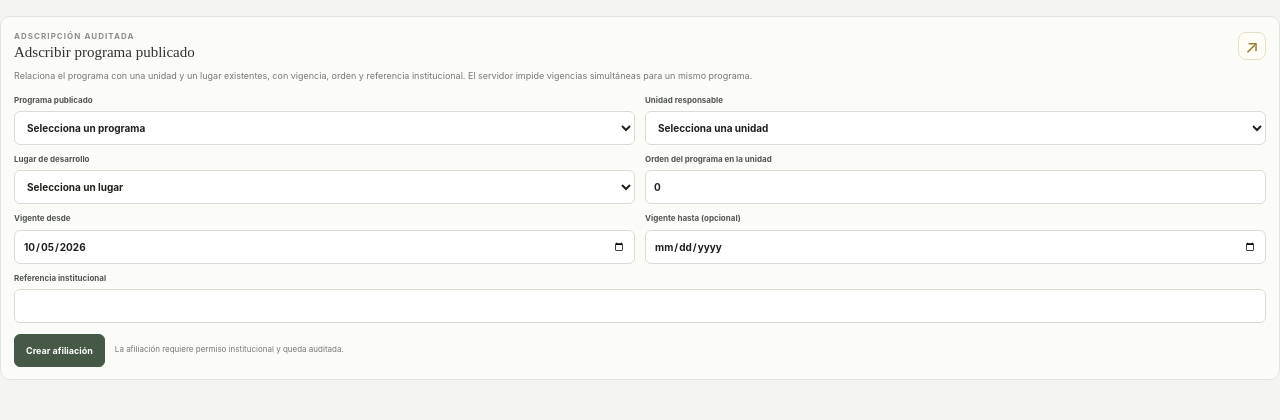
Scenario: CreateAcademicProgramAffiliationForm › creates an audited program affiliation from explicit catalog identities
The image size is (1280, 420).
Select "Ingeniería de Sistemas · IS-2026" in the dropdown labelled "Programa publicado": (324, 128) [14, 111, 635, 145]
Select "Facultad de prueba · FAC-TEST" in the dropdown labelled "Unidad responsable": (956, 128) [645, 111, 1266, 145]
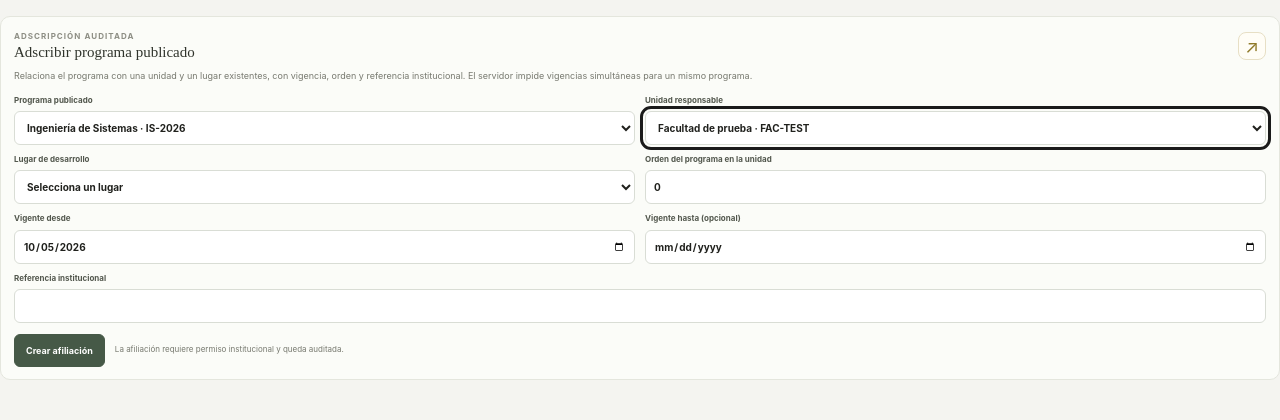
Select "Campus de prueba · SITE-TEST" in the dropdown labelled "Lugar de desarrollo": (324, 187) [14, 170, 635, 204]
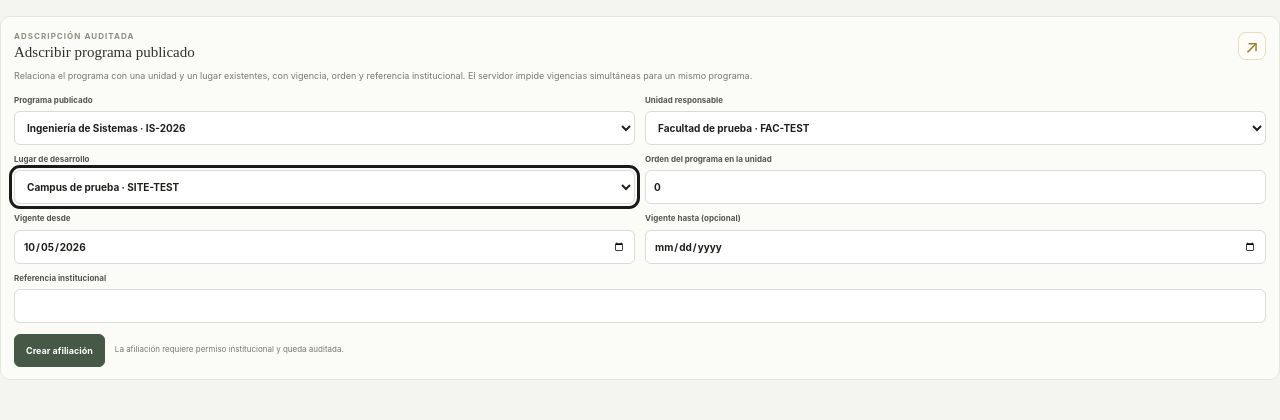
Replace the text in the number field labelled "Orden del programa en la unidad" with "4": (956, 187) [645, 170, 1266, 204]
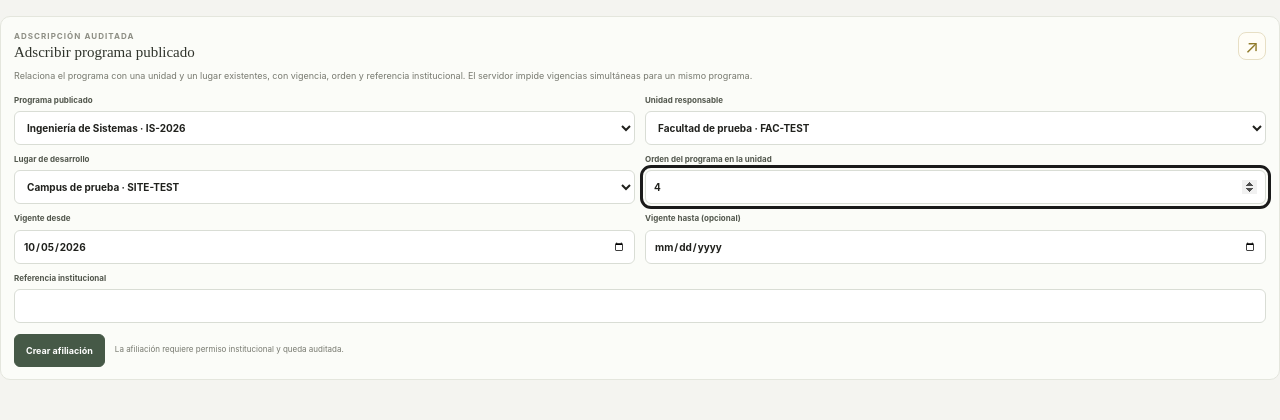
In the date field labelled "Vigente desde": (324, 246) [14, 230, 635, 264], type "2026-10-01"
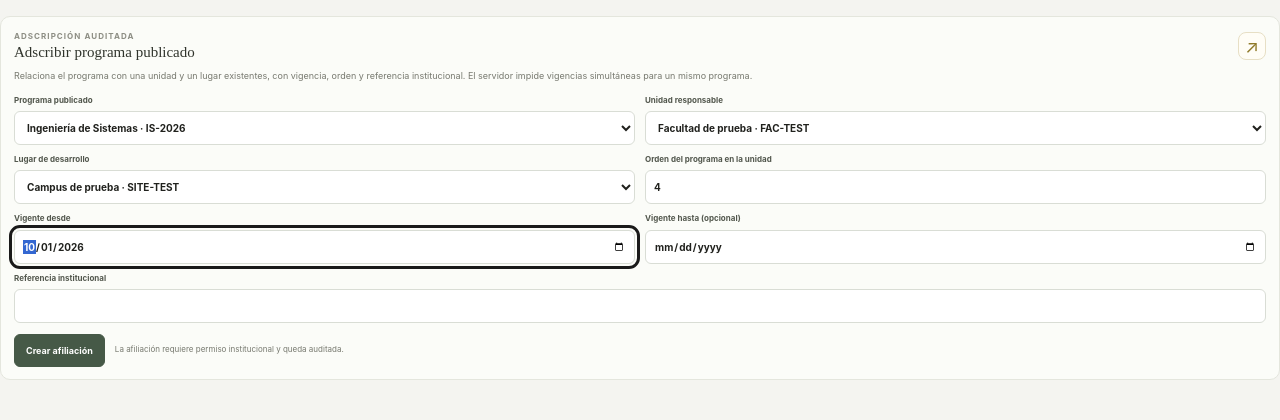
In the field labelled "Referencia institucional": (640, 306) [14, 289, 1266, 323], type "Resolución de adscripción de prueba"
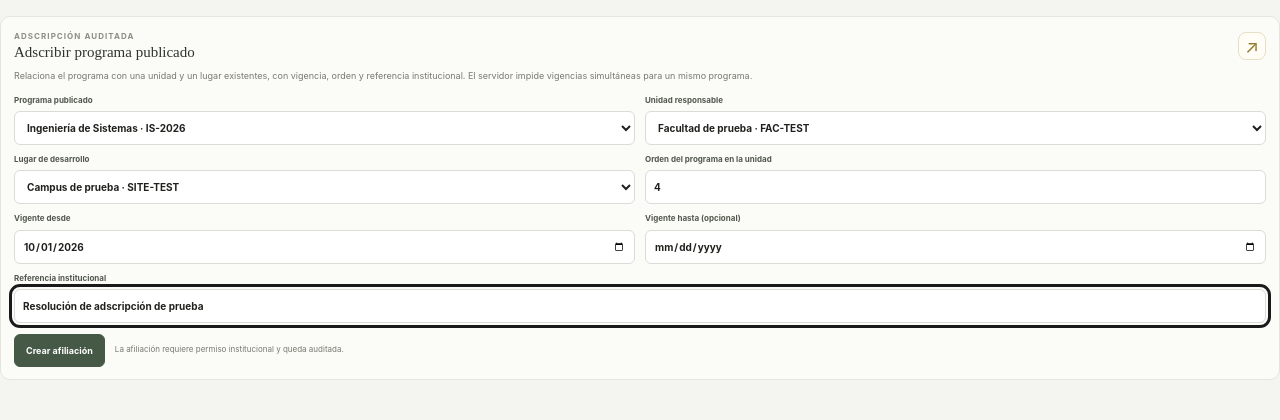
Click the button "Crear afiliación": (59, 350) [14, 334, 105, 367]
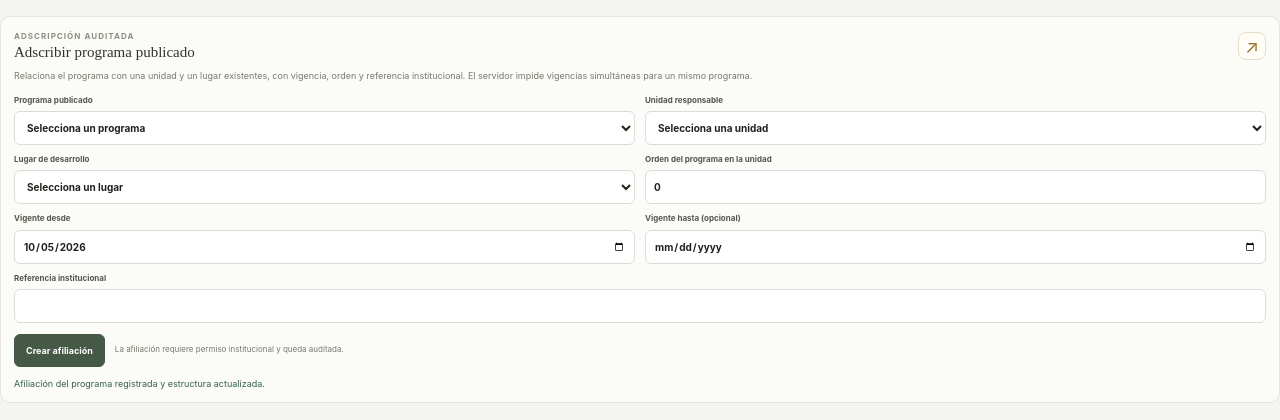
Expected: the message reads "Afiliación del programa registrada y estructura actualizada.", [14, 378, 265, 389]
